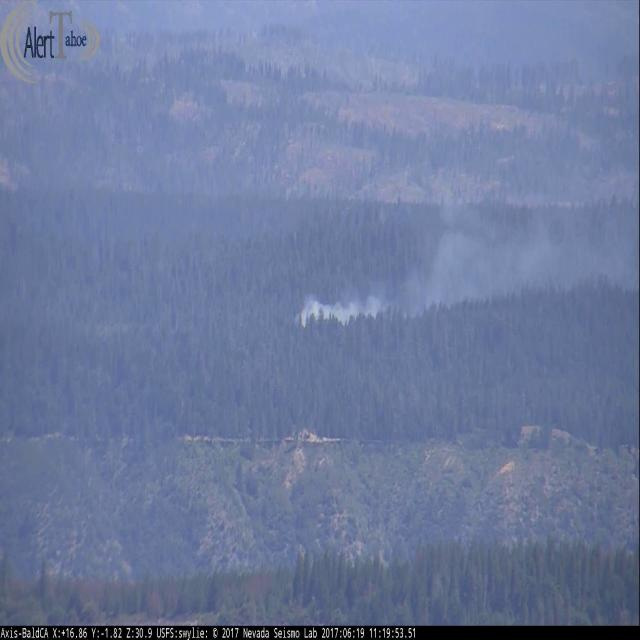smoke: (290, 187, 625, 333)
